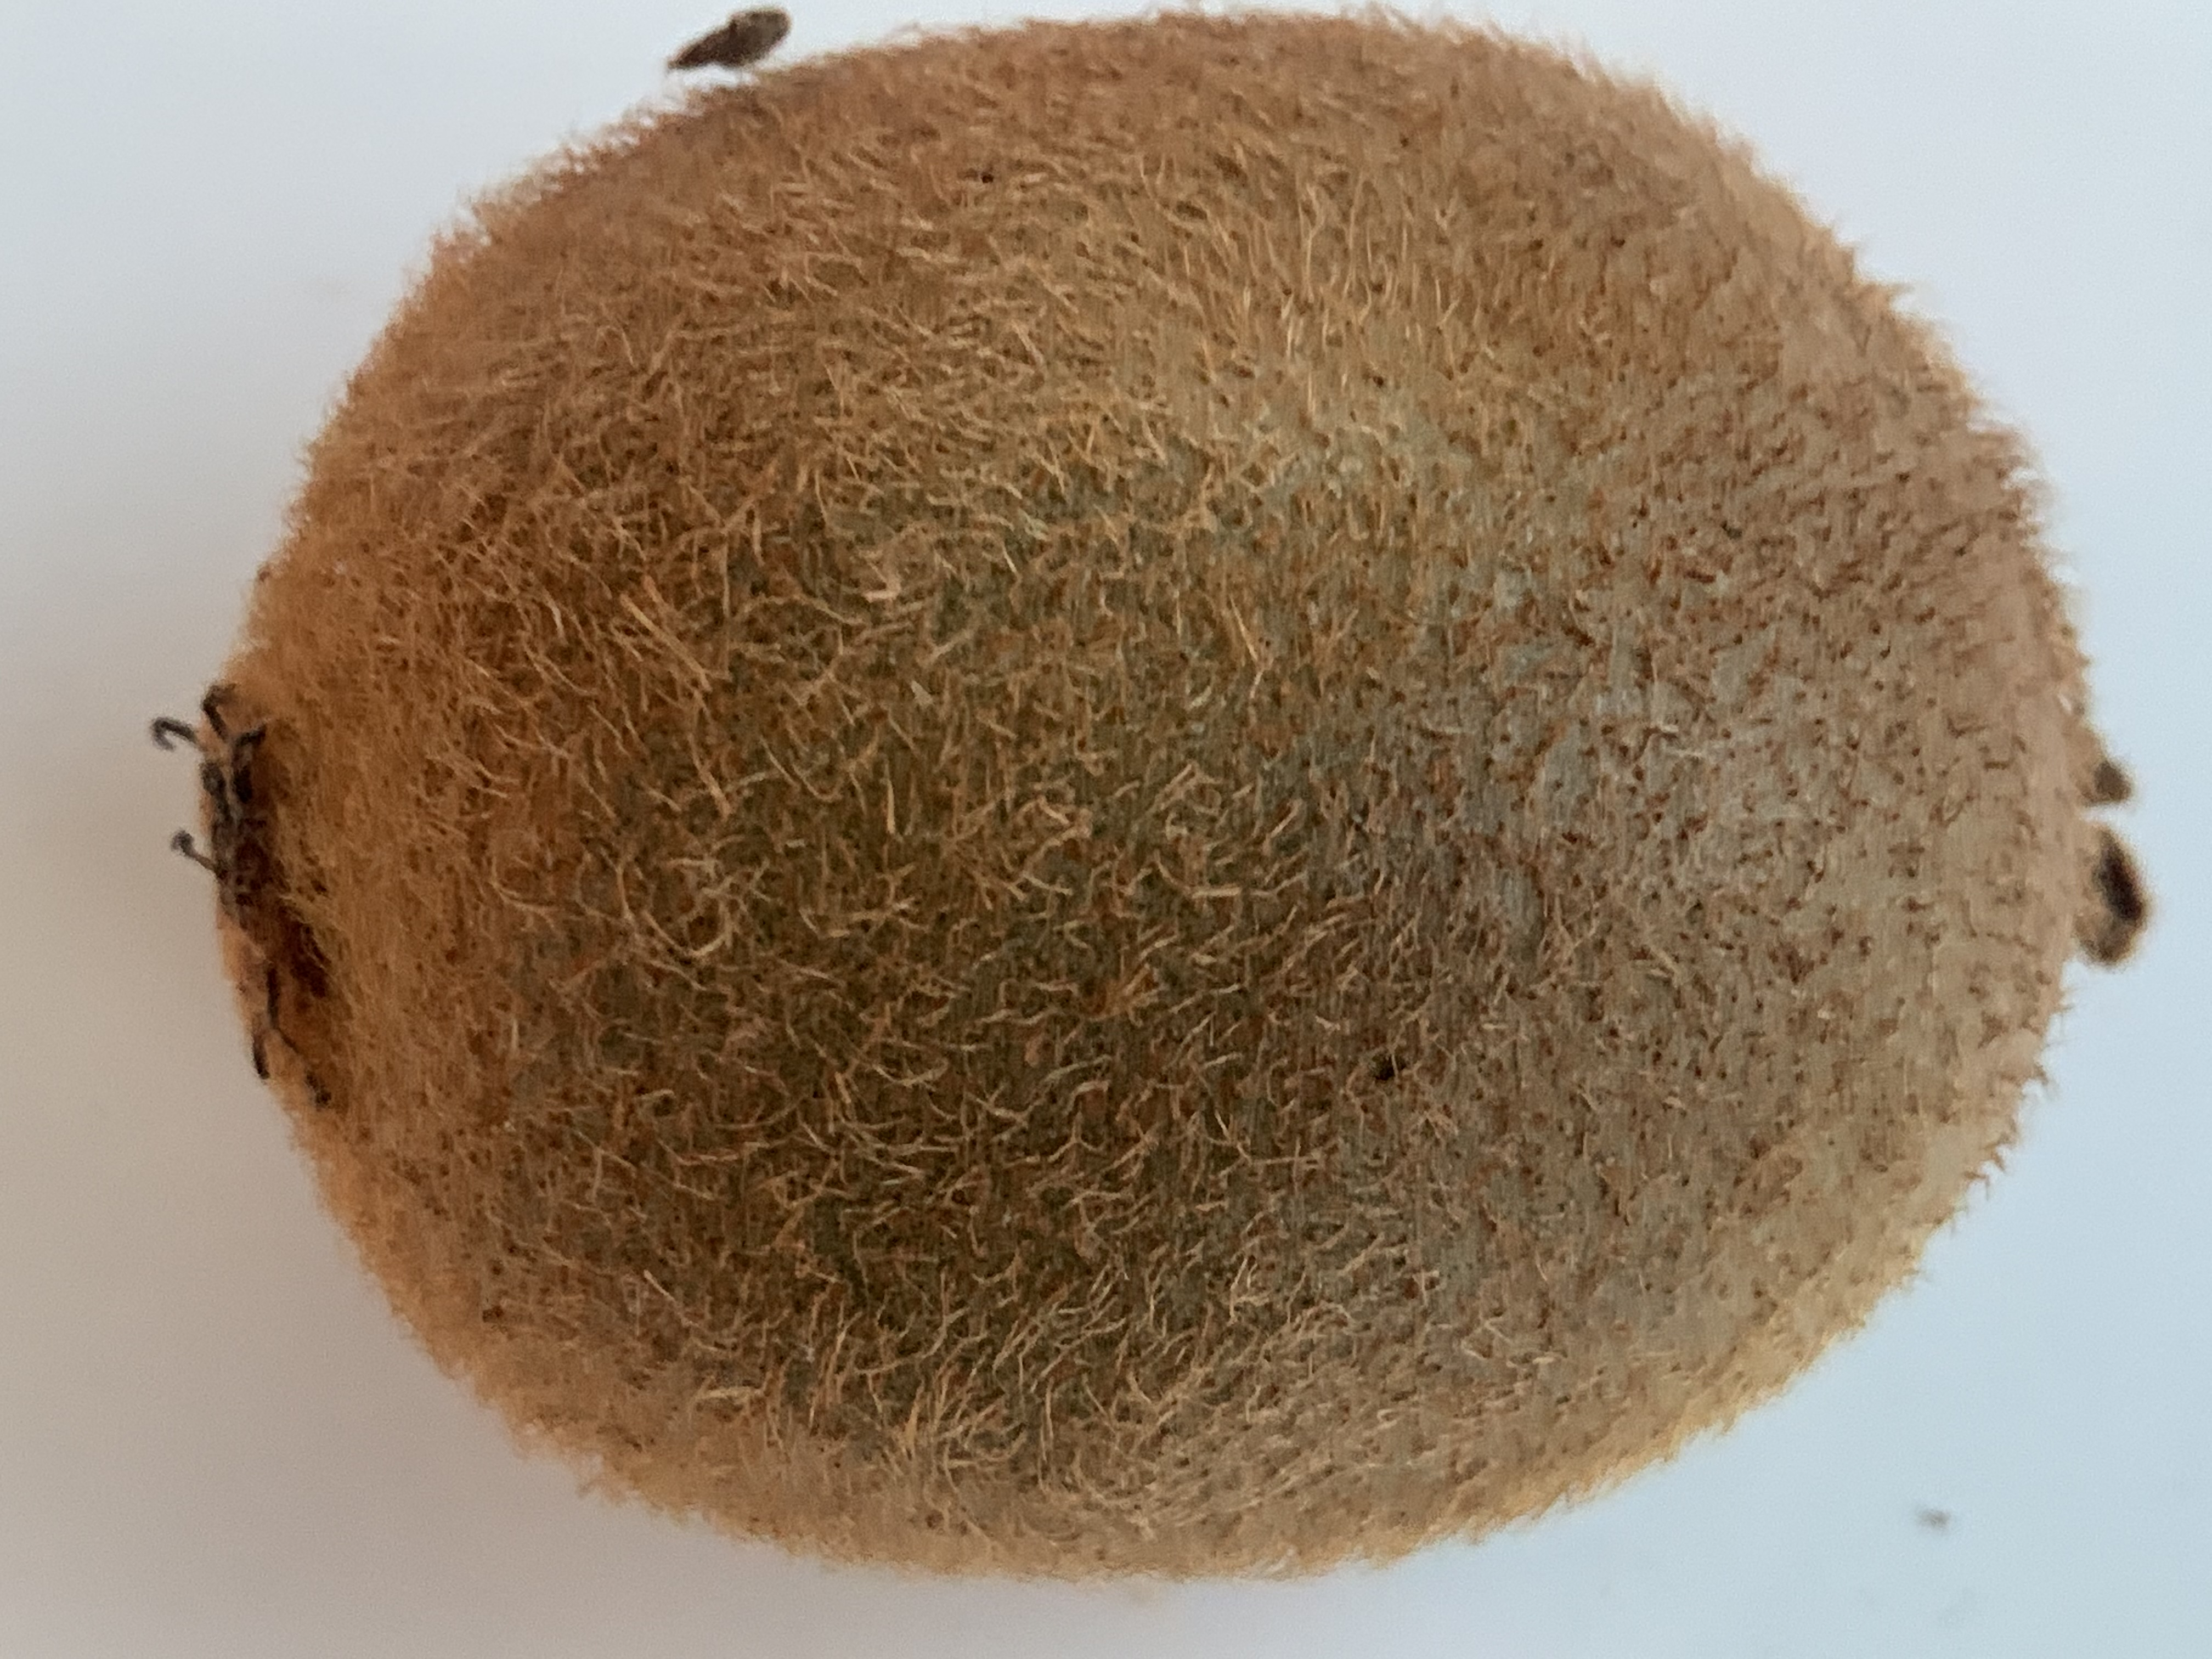kiwi: (172, 30, 2141, 1574)
